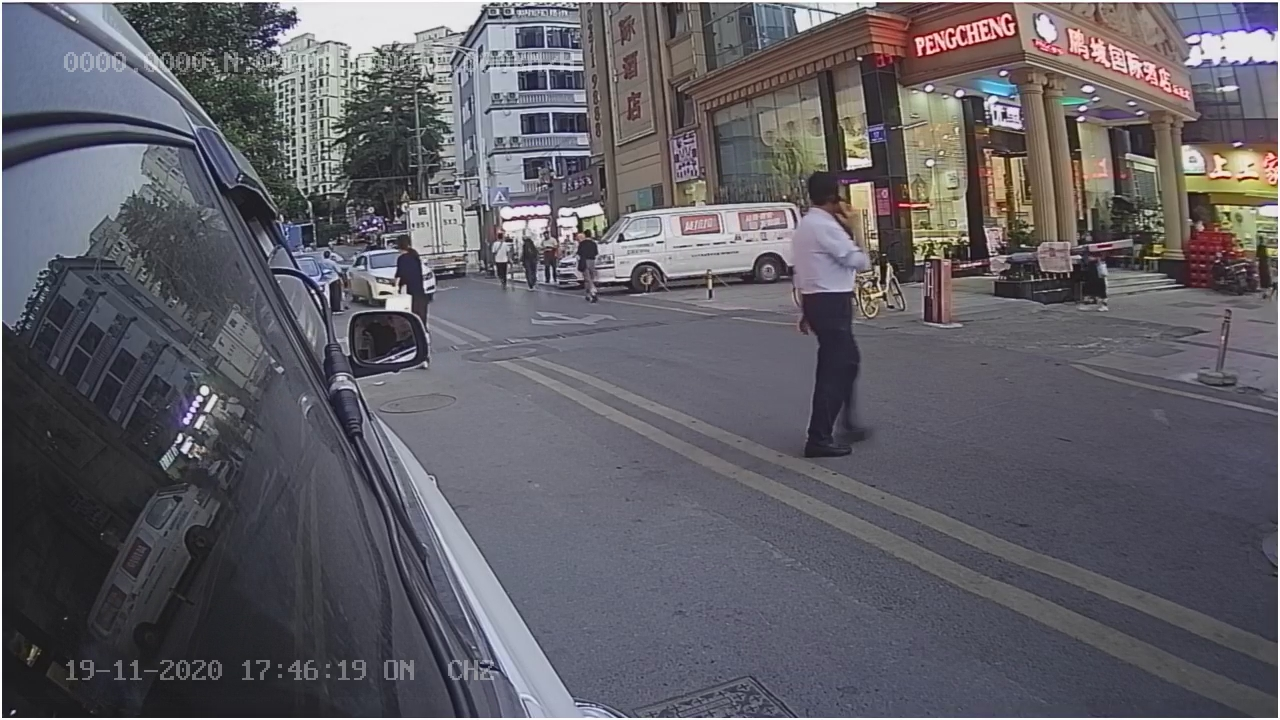person: (781, 174, 888, 463)
